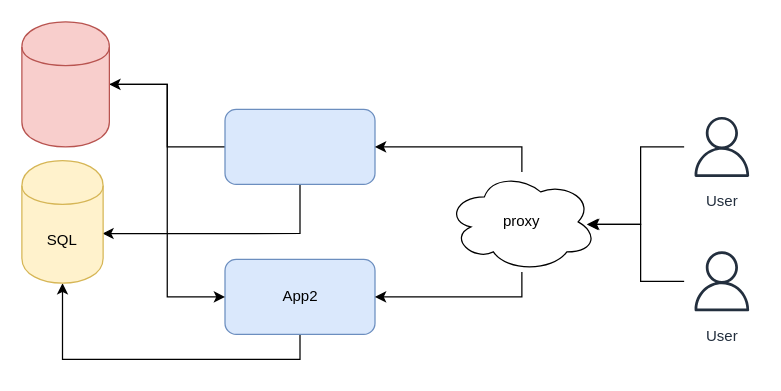
Image size: 781x391. Some labels were removed from this diagram. Each missing label, with the box of its shape:
App1: (224, 108, 375, 184)
Cache pub/sub: (21, 21, 109, 147)
